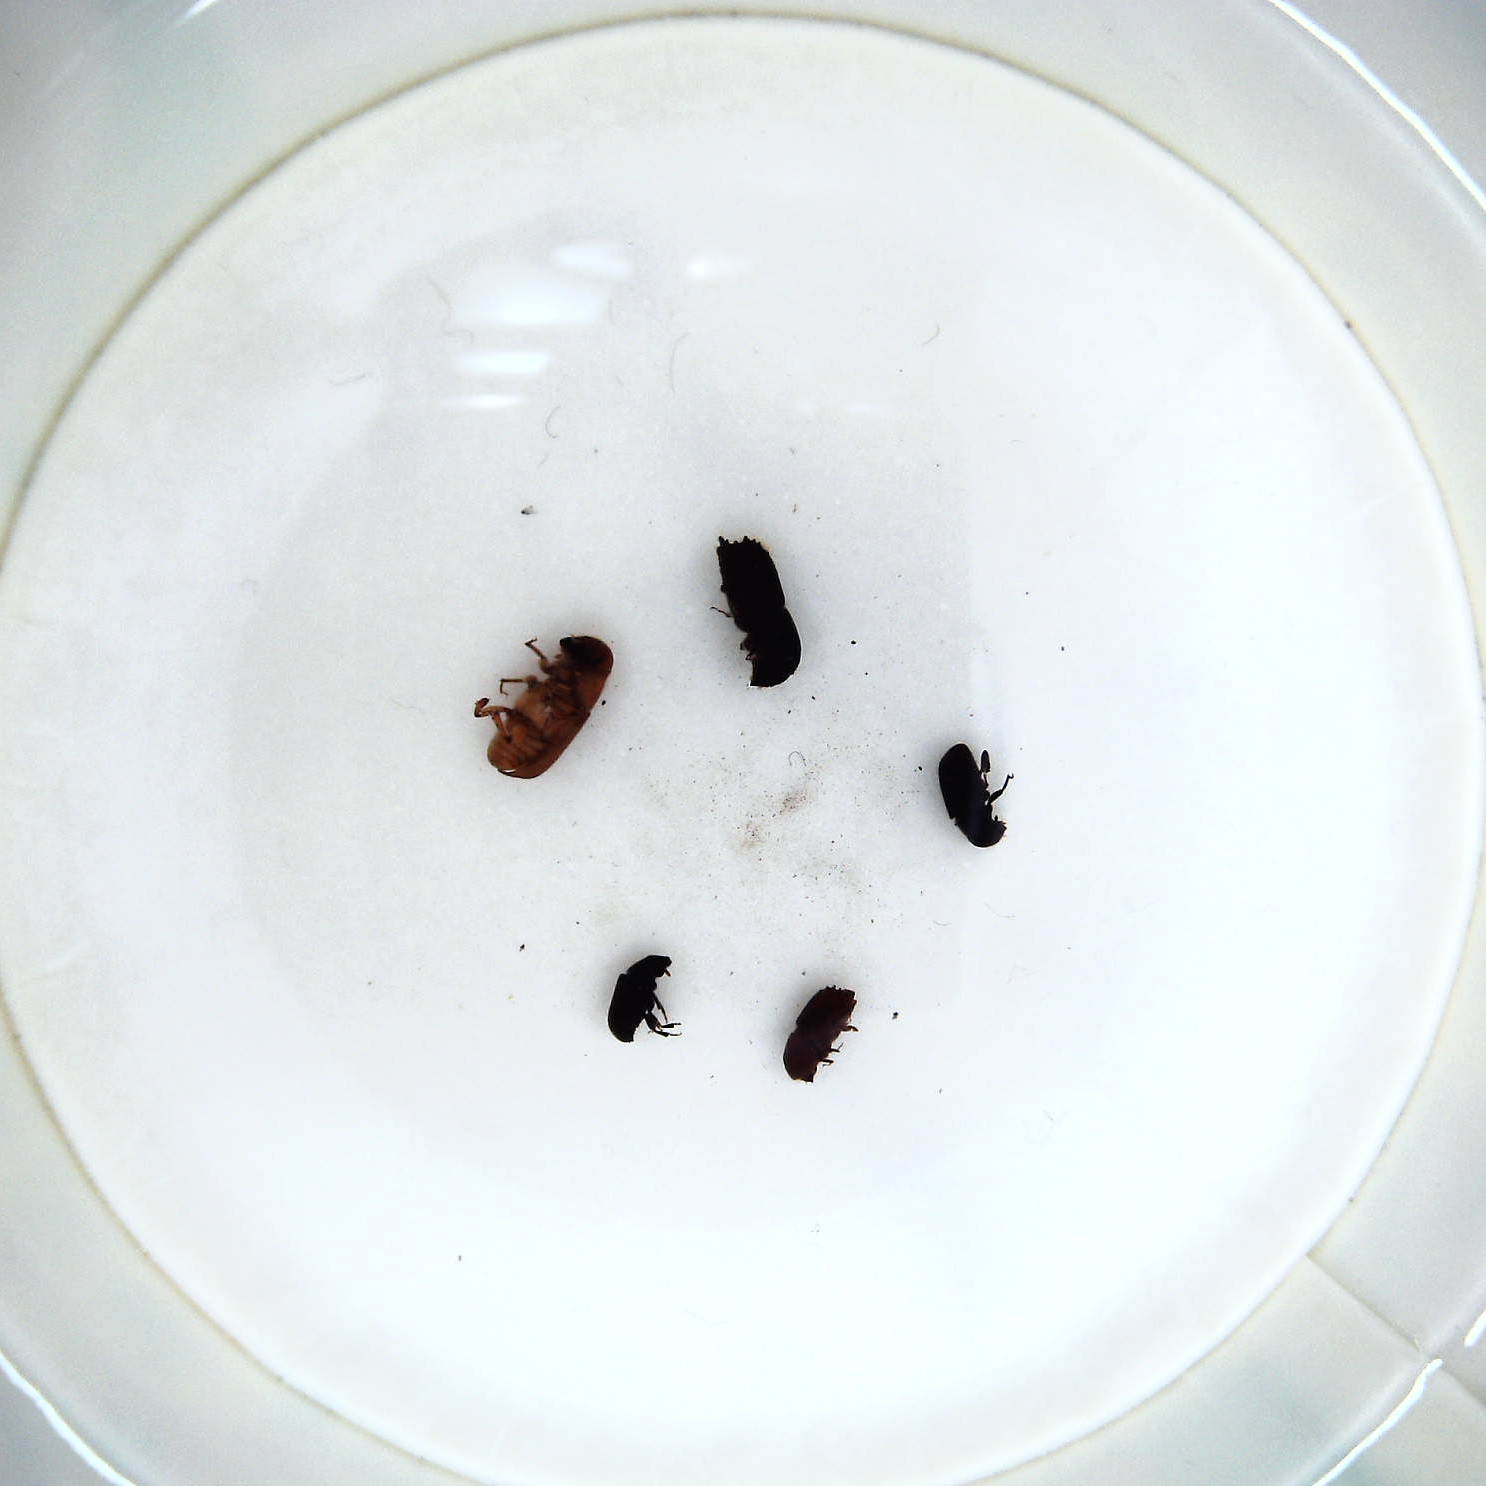Boerner: (708, 527, 808, 697)
Leconte: (467, 629, 621, 782)
armandi: (928, 736, 1021, 853)
coleoptera: (603, 948, 686, 1051)
linnaeus: (777, 985, 859, 1087)
